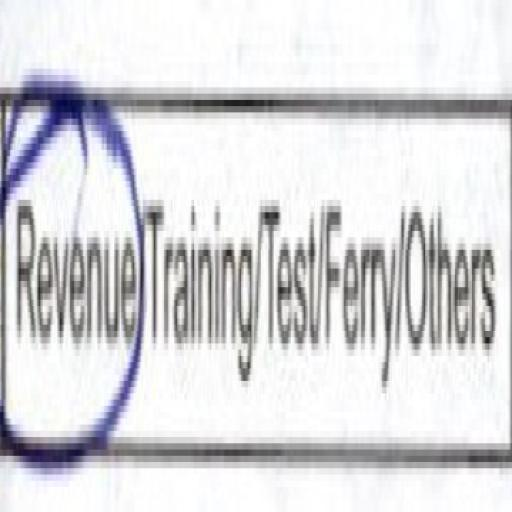check: (0, 46, 143, 453)
